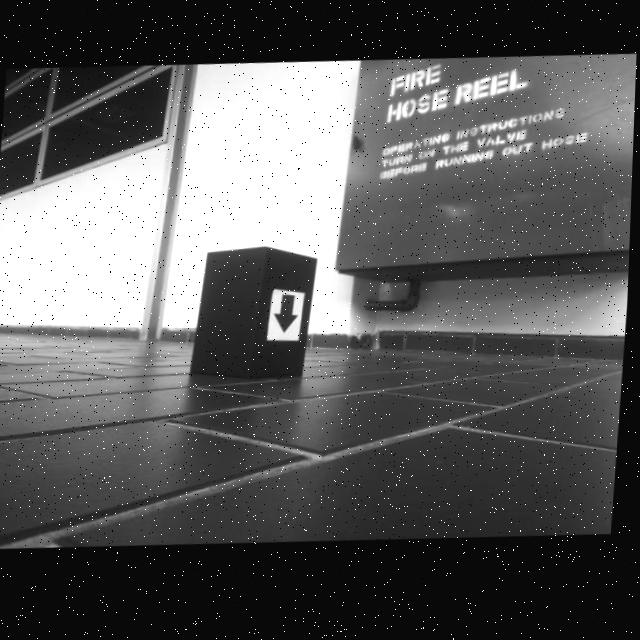DOWN: (275, 298, 301, 337)
